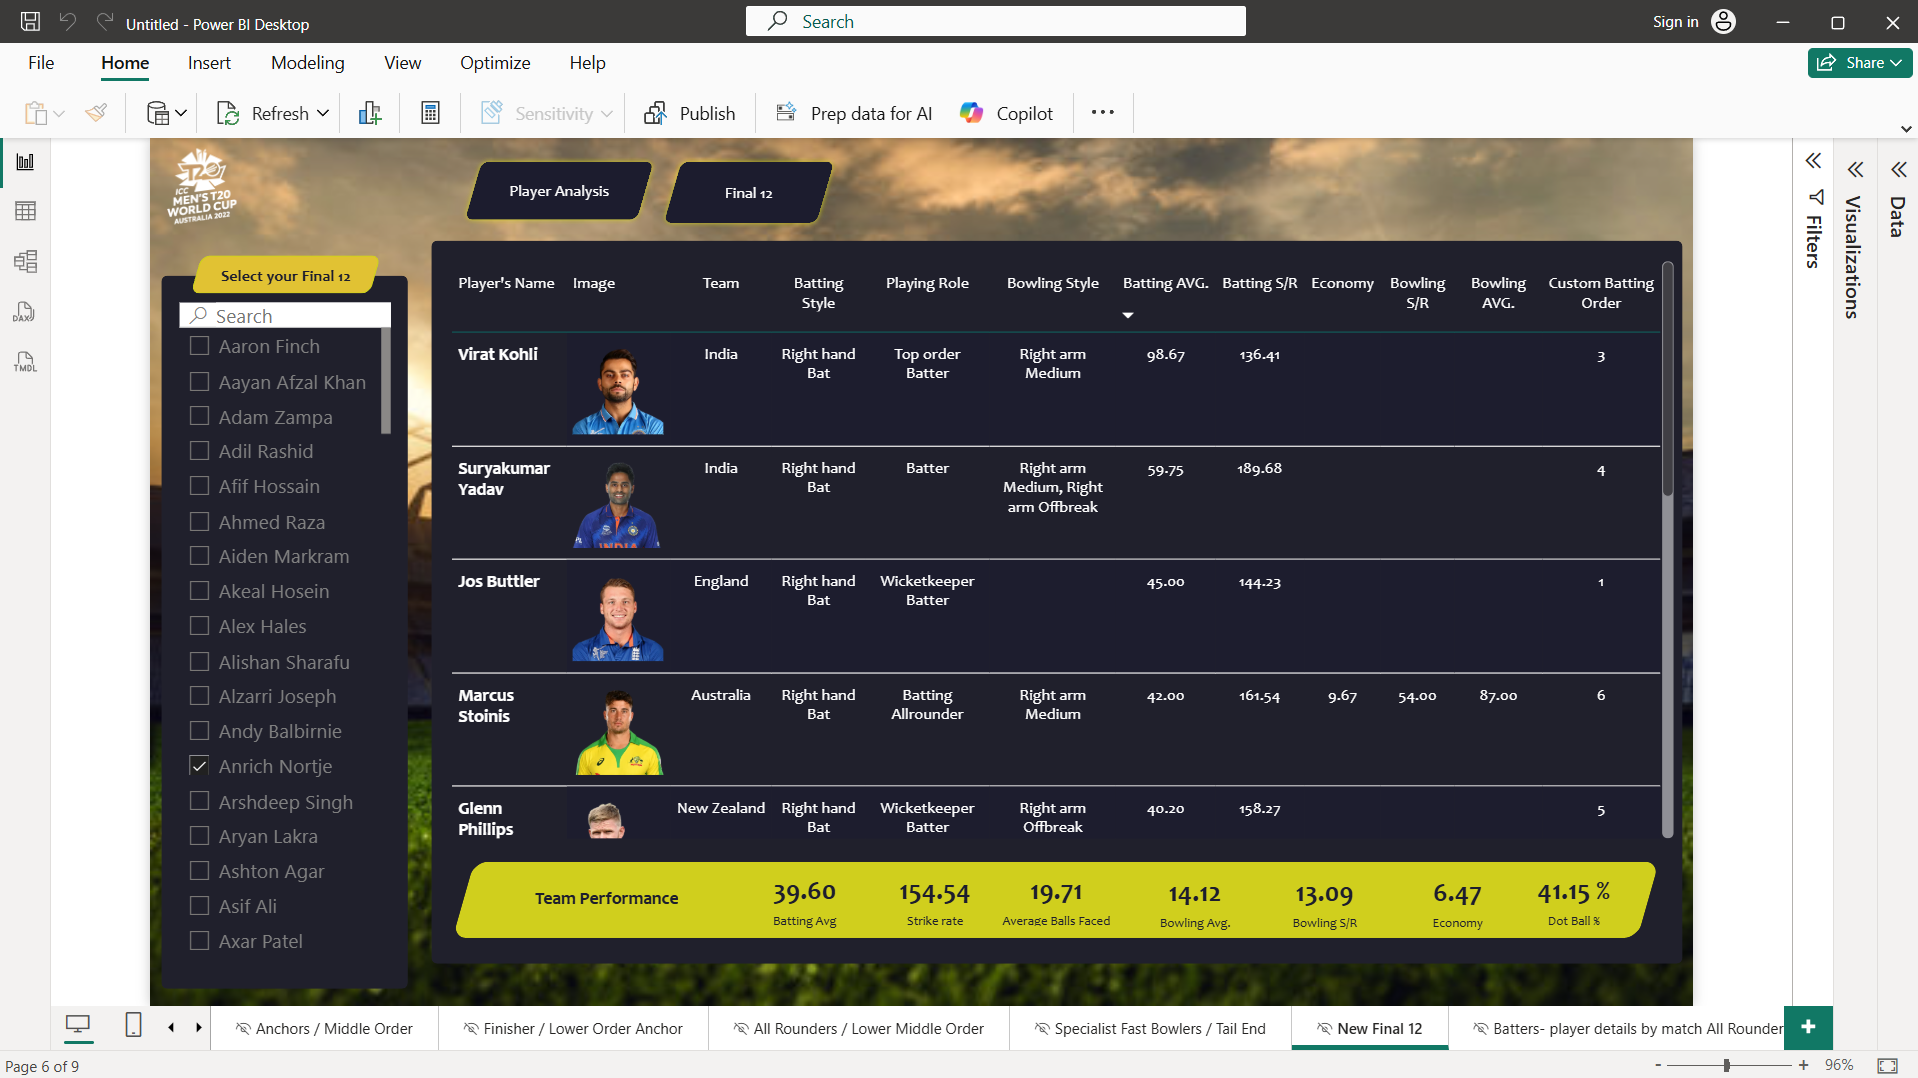

This screenshot's page, from the dashboard's own definition file:
{"tool":"powerbi","page":{"name":"New Final 12","canvas":[1280,720],"ordinal":5},"visuals":[{"type":"shape","box":[233.3,85.1,1037.4,599.7],"z":0},{"type":"shape","box":[9.6,113.9,204.5,591.4],"z":1000},{"type":"shape","box":[28.8,97.4,167.4,31.6],"z":2000},{"type":"actionButton","title":"Button Player Ana selected","box":[421.3,15.1,149.6,59],"z":3000},{"type":"actionButton","title":"Button Player Ana selected","box":[256.6,15.1,164.7,56.3],"z":4000},{"type":"slicer","fields":{"Values":["dim_player.name"]},"box":[19.2,131.7,185.2,558.5],"z":5000},{"type":"pivotTable","fields":{"Values":["Min(dim_player.team)","Min(dim_player.Batting Style)","Min(dim_player.Playing Role)","Min(dim_player.Bowling Style)","Key_Measures.Bat Avg","Key_Measures.Strike rate","Key_Measures.Economy","Key_Measures.Bowling Strike Rate","Key_Measures.Bowling Average","Sum(dim_player.Custom Batting Order)"],"Rows":["dim_player.name","dim_player.image"]},"box":[245.6,97.4,1022.3,488.5],"z":6000},{"type":"shape","box":[251.1,599.7,1000.3,63.1],"z":7000},{"type":"shape","box":[292.3,613.4,172.9,34.3],"z":8000},{"type":"card","fields":{"Values":["Key_Measures.Bat Avg"]},"box":[496.7,599.7,93.3,60.4],"z":9000},{"type":"card","fields":{"Values":["Key_Measures.Strike rate"]},"box":[605.1,599.7,91.9,60.4],"z":10000},{"type":"card","fields":{"Values":["Key_Measures.Bowling Strike Rate"]},"box":[927.6,602.4,93.3,60.4],"z":11000},{"type":"card","fields":{"Values":["Key_Measures.Economy"]},"box":[1034.7,602.4,100.2,60.4],"z":12000},{"type":"card","fields":{"Values":["Key_Measures.Bowling Average"]},"box":[820.6,602.4,91.9,60.4],"z":13000},{"type":"card","fields":{"Values":["Key_Measures.Averge balls Faced"]},"box":[697.1,602.4,108.4,56.3],"z":14000},{"type":"card","fields":{"Values":["Key_Measures.Dot Ball %"]},"box":[1115.6,599.7,129,60.4],"z":15000},{"type":"image","box":[9.6,2.7,67.2,74.1],"z":16000}]}

Visuals, with their boxes on the page's 1280x720 design canvas (x1, y1, x2, y2). These are canvas units, not pixel positions in the 1918x1078 screenshot, which may show the page scaled, cropped or inside an application window:
shape: 233, 85, 1271, 685
shape: 10, 114, 214, 705
shape: 29, 97, 196, 129
"Button Player Ana selected" actionButton: 421, 15, 571, 74
"Button Player Ana selected" actionButton: 257, 15, 421, 71
slicer - dim_player.name: 19, 132, 204, 690
pivotTable - Min(dim_player.team) x Min(dim_player.Batting Style): 246, 97, 1268, 586
shape: 251, 600, 1251, 663
shape: 292, 613, 465, 648
card - Key_Measures.Bat Avg: 497, 600, 590, 660
card - Key_Measures.Strike rate: 605, 600, 697, 660
card - Key_Measures.Bowling Strike Rate: 928, 602, 1021, 663
card - Key_Measures.Economy: 1035, 602, 1135, 663
card - Key_Measures.Bowling Average: 821, 602, 912, 663
card - Key_Measures.Averge balls Faced: 697, 602, 806, 659
card - Key_Measures.Dot Ball %: 1116, 600, 1245, 660
image: 10, 3, 77, 77
